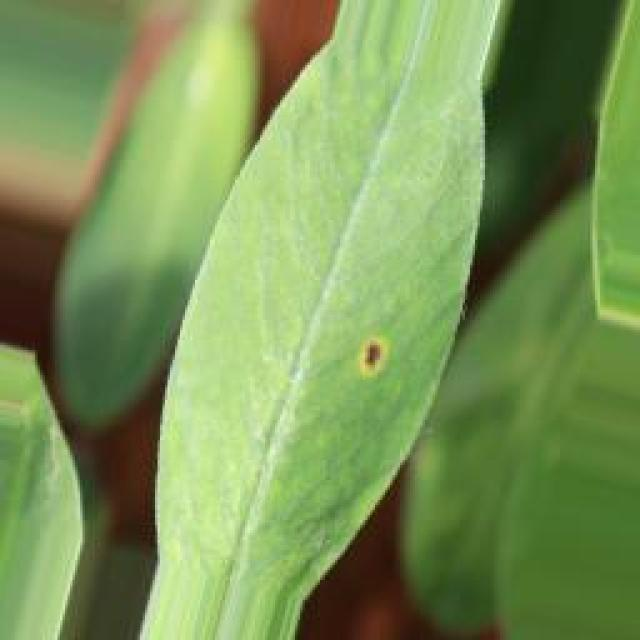Sigatoka: (350, 319, 422, 413)
